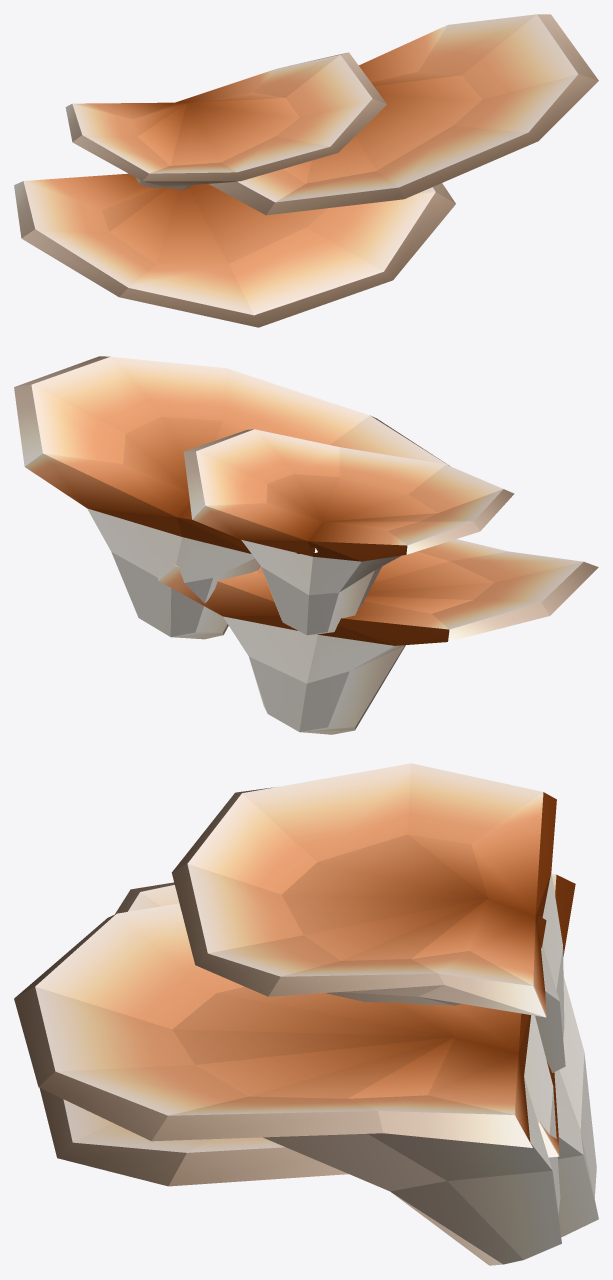
File: Tree_Mushroom-04.fbx
3 views of the same model, one above another, from view 1: azimuth 30°, elevation 25°; view 2: azimuth 150°, elevation 25°; view 3: azimuth 270°, elevation 25° (orthographic). The views are drawn at different scales.
Parts seen in each view (by area): view 1: Tree_Mushroom-04; view 2: Tree_Mushroom-04; view 3: Tree_Mushroom-04.
Boxes of the visible parts, x1,y1,x2,y2 form: Tree_Mushroom-04: (14, 14, 598, 327); Tree_Mushroom-04: (14, 356, 598, 734); Tree_Mushroom-04: (14, 763, 598, 1265).
Bounding box in the file's own units: 110 × 46.2 × 60.12.
Materials: 1 (1 with a texture image).
